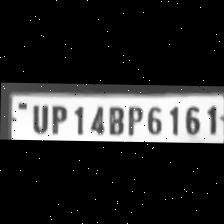1: (202, 101, 220, 134), (68, 102, 86, 134), (164, 102, 181, 134)
4: (86, 102, 106, 134)
6: (142, 102, 164, 134), (179, 102, 201, 134)
B: (105, 102, 124, 134)
P: (124, 102, 144, 135), (48, 102, 68, 134)
U: (27, 101, 50, 132)
